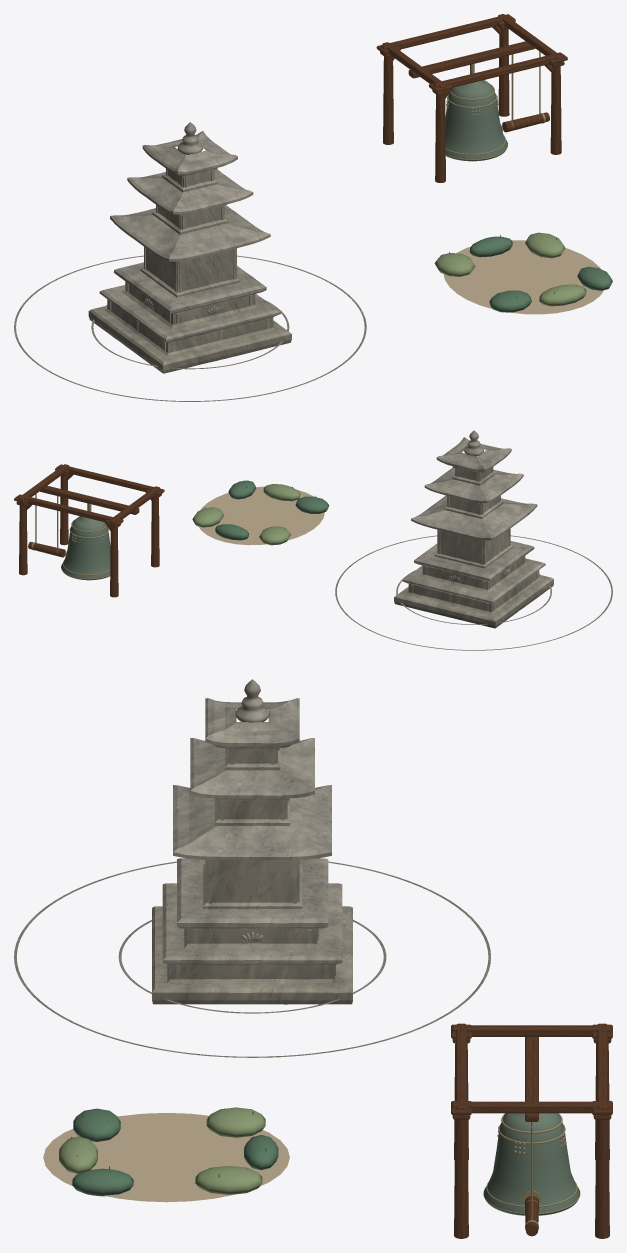
The model's file is bell-pagoda.gltf.
3 views of the same model, one above another, from view 1: azimuth 30°, elevation 25°; view 2: azimuth 150°, elevation 25°; view 3: azimuth 270°, elevation 25° (orthographic). The views are drawn at different scales.
Visible parts, largest first — view 1: 삼층석탑 · 세월이 밴 화강석 (×2), 범종각 · 짙은 목재, 범종과 탑 사이 정원 · 고운 흙, 범종 · 청동 몸체, 범종과 탑 사이 정원 · 어린 잎, 범종과 탑 사이 정원 · 짙은 잎, 범종 · 당목, 범종 · 닳은 청동 띠; view 2: 삼층석탑 · 세월이 밴 화강석 (×2), 범종각 · 짙은 목재, 범종과 탑 사이 정원 · 고운 흙, 범종 · 청동 몸체, 범종과 탑 사이 정원 · 어린 잎, 범종과 탑 사이 정원 · 짙은 잎, 범종 · 당목, 범종 · 닳은 청동 띠; view 3: 삼층석탑 · 세월이 밴 화강석, 범종과 탑 사이 정원 · 고운 흙, 범종각 · 짙은 목재, 범종 · 청동 몸체, 범종과 탑 사이 정원 · 어린 잎, 범종과 탑 사이 정원 · 짙은 잎, 범종 · 닳은 청동 띠.
Boxes of the visible parts, <box> form: 삼층석탑 · 세월이 밴 화강석 (×2): <box>14,122,366,401</box>; 범종각 · 짙은 목재: <box>376,14,567,182</box>; 범종과 탑 사이 정원 · 고운 흙: <box>443,240,603,314</box>; 범종 · 청동 몸체: <box>445,80,507,161</box>; 범종과 탑 사이 정원 · 어린 잎: <box>434,232,586,306</box>; 범종과 탑 사이 정원 · 짙은 잎: <box>449,234,612,312</box>; 범종 · 당목: <box>502,51,549,132</box>; 범종 · 닳은 청동 띠: <box>445,63,507,160</box>; 삼층석탑 · 세월이 밴 화강석 (×2): <box>335,430,612,650</box>; 범종각 · 짙은 목재: <box>14,464,164,597</box>; 범종과 탑 사이 정원 · 고운 흙: <box>198,486,324,545</box>; 범종 · 청동 몸체: <box>61,516,110,580</box>; 범종과 탑 사이 정원 · 어린 잎: <box>192,484,300,545</box>; 범종과 탑 사이 정원 · 짙은 잎: <box>204,480,329,540</box>; 범종 · 당목: <box>28,494,65,557</box>; 범종 · 닳은 청동 띠: <box>61,503,110,579</box>; 삼층석탑 · 세월이 밴 화강석: <box>14,679,490,1057</box>; 범종과 탑 사이 정원 · 고운 흙: <box>43,1113,289,1202</box>; 범종각 · 짙은 목재: <box>451,1023,612,1238</box>; 범종 · 청동 몸체: <box>484,1113,579,1215</box>; 범종과 탑 사이 정원 · 어린 잎: <box>59,1107,265,1194</box>; 범종과 탑 사이 정원 · 짙은 잎: <box>71,1108,278,1196</box>; 범종 · 닳은 청동 띠: <box>483,1113,580,1214</box>.
Bounding box in the file's own units: 22.29 × 7.28 × 13.94.
